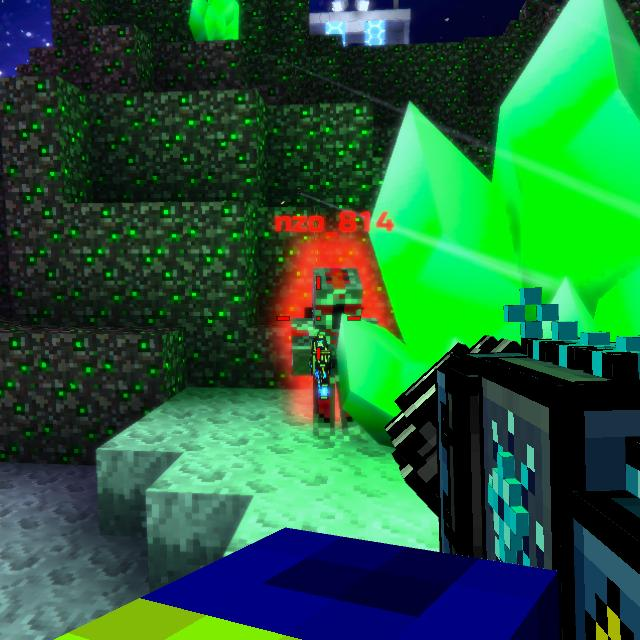Enemy: (291, 267, 379, 441)
